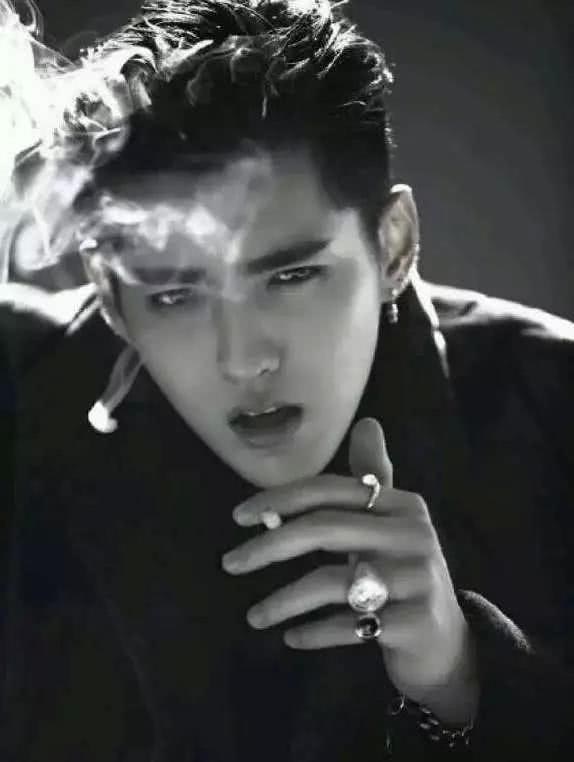cigarette: (258, 504, 287, 531)
